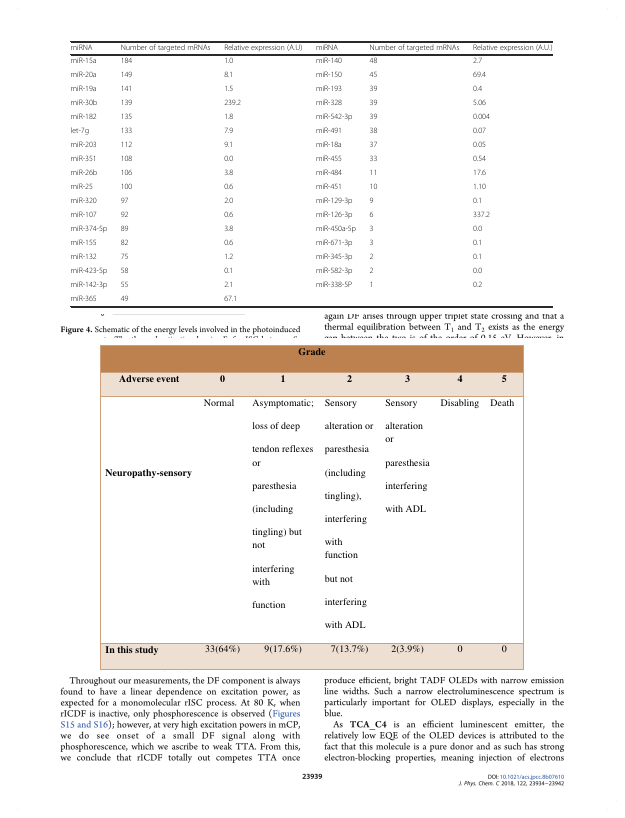bordered: (99, 344, 523, 669)
borderless: (69, 40, 552, 306)
cell: (251, 396, 315, 611), (324, 396, 374, 631), (384, 396, 431, 515), (104, 465, 193, 479), (118, 371, 180, 385), (368, 44, 460, 53), (120, 44, 211, 53), (472, 44, 553, 53), (104, 642, 160, 655), (223, 44, 303, 53), (440, 396, 480, 409), (263, 642, 303, 655), (330, 642, 369, 655), (204, 642, 241, 655), (390, 642, 425, 655), (315, 225, 357, 235), (203, 396, 235, 409), (297, 344, 326, 358), (315, 113, 353, 123), (315, 197, 353, 207), (315, 211, 353, 221), (70, 225, 108, 235), (315, 239, 353, 249), (315, 253, 353, 263), (70, 267, 108, 277), (315, 267, 353, 277), (70, 281, 108, 291), (315, 281, 353, 291), (489, 396, 515, 409), (315, 57, 343, 67), (315, 71, 343, 81), (315, 85, 343, 95), (70, 99, 98, 109), (315, 99, 343, 109), (315, 127, 343, 137), (315, 141, 343, 151), (315, 155, 343, 165), (70, 169, 98, 179), (315, 169, 343, 179), (315, 183, 343, 193), (70, 57, 97, 67), (70, 71, 97, 81), (70, 85, 97, 95), (70, 113, 97, 123), (70, 141, 97, 151), (70, 155, 97, 165), (70, 197, 97, 207), (70, 211, 97, 221), (70, 239, 97, 249), (70, 253, 97, 263), (70, 295, 97, 305), (70, 183, 94, 193), (315, 44, 339, 53), (70, 44, 93, 53), (70, 127, 90, 137), (223, 99, 242, 109), (472, 113, 491, 123), (472, 211, 491, 221), (472, 71, 487, 81), (472, 99, 487, 109), (472, 127, 487, 137), (472, 141, 487, 151), (472, 155, 487, 165), (472, 169, 487, 179), (472, 183, 487, 193), (223, 295, 238, 305), (120, 57, 133, 67), (120, 71, 133, 81), (120, 85, 133, 95), (120, 99, 133, 109), (120, 113, 133, 123), (120, 127, 133, 137), (120, 141, 133, 151), (120, 155, 133, 165), (120, 169, 133, 179), (120, 183, 133, 193), (223, 57, 234, 67), (472, 57, 483, 67), (223, 71, 234, 81), (223, 85, 234, 95), (472, 85, 483, 95), (223, 113, 234, 123), (223, 127, 234, 137), (223, 141, 234, 151), (223, 155, 234, 165), (223, 169, 234, 179), (223, 183, 234, 193), (223, 197, 234, 207), (472, 197, 483, 207), (223, 211, 234, 221), (223, 225, 234, 235), (472, 225, 483, 235), (223, 239, 234, 249), (472, 239, 483, 249), (223, 253, 234, 263), (472, 253, 483, 263), (223, 267, 234, 277), (472, 267, 483, 277), (223, 281, 234, 291), (472, 281, 483, 291), (368, 57, 378, 67), (368, 71, 378, 81), (368, 85, 378, 95), (368, 99, 378, 109), (368, 113, 378, 123), (368, 127, 378, 137), (368, 141, 378, 151), (368, 155, 378, 165), (368, 169, 378, 179), (368, 183, 378, 193), (219, 371, 226, 385), (280, 371, 287, 385), (346, 371, 353, 385), (404, 371, 411, 385), (456, 371, 463, 385), (501, 371, 508, 385), (456, 642, 463, 655), (501, 642, 508, 655), (120, 197, 129, 207), (120, 211, 129, 221), (120, 225, 129, 235), (120, 239, 129, 249), (120, 253, 129, 263), (120, 267, 129, 277), (120, 281, 129, 291), (120, 295, 129, 305), (368, 197, 374, 207), (368, 211, 374, 221), (368, 225, 374, 235), (368, 239, 374, 249), (368, 253, 374, 263), (368, 267, 374, 277), (368, 281, 374, 291)
